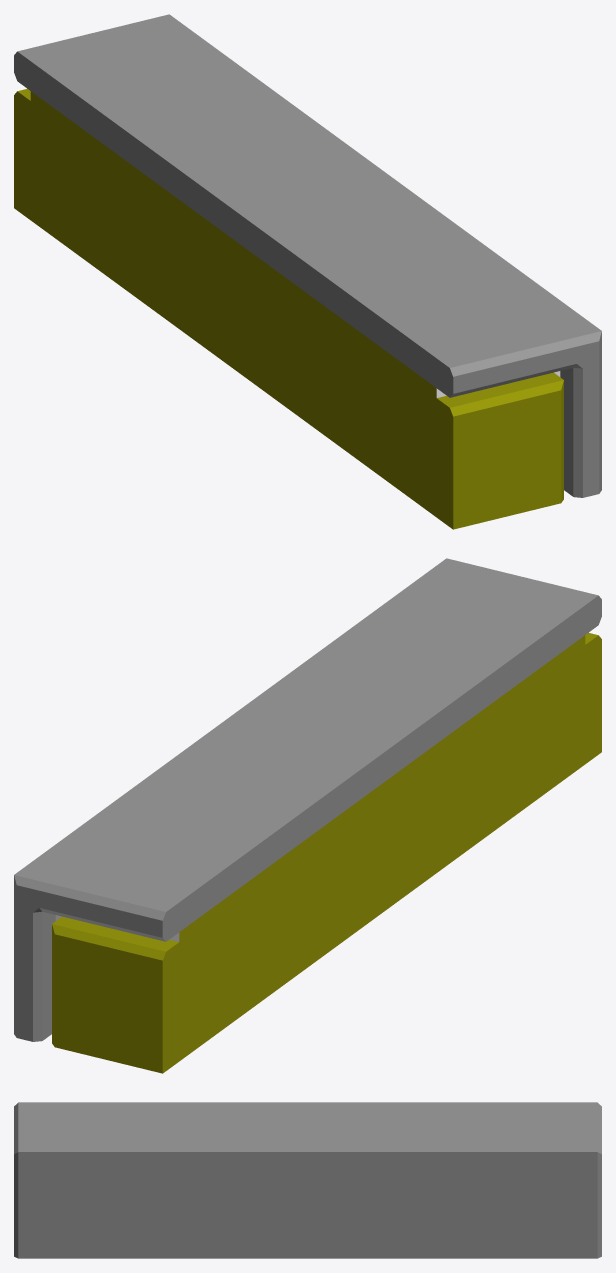
File: Mesh_Levelblock_Cube_Corner.FBX
The picture shows the model from 3 angles, top to bottom: view 1: azimuth 30°, elevation 25°; view 2: azimuth 150°, elevation 25°; view 3: azimuth 270°, elevation 25°; orthographic projection. The views are drawn at different scales.
Visible parts, largest first — view 1: Mesh_BlockEdge1; view 2: Mesh_BlockEdge1; view 3: Mesh_BlockEdge1.
Boxes of the visible parts, x1,y1,x2,y2 form: Mesh_BlockEdge1: [14, 14, 601, 529]; Mesh_BlockEdge1: [14, 558, 601, 1073]; Mesh_BlockEdge1: [14, 1102, 601, 1258].
Size of the model in its own units: 2 by 2 by 10.
